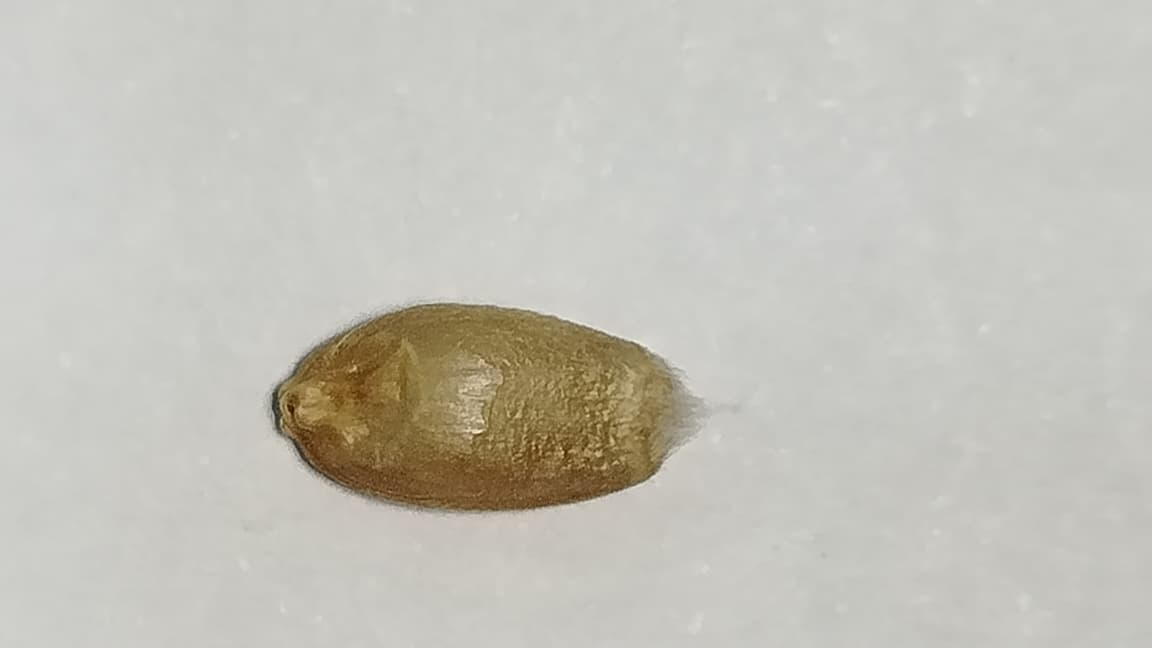healthy: (278, 304, 693, 510)
